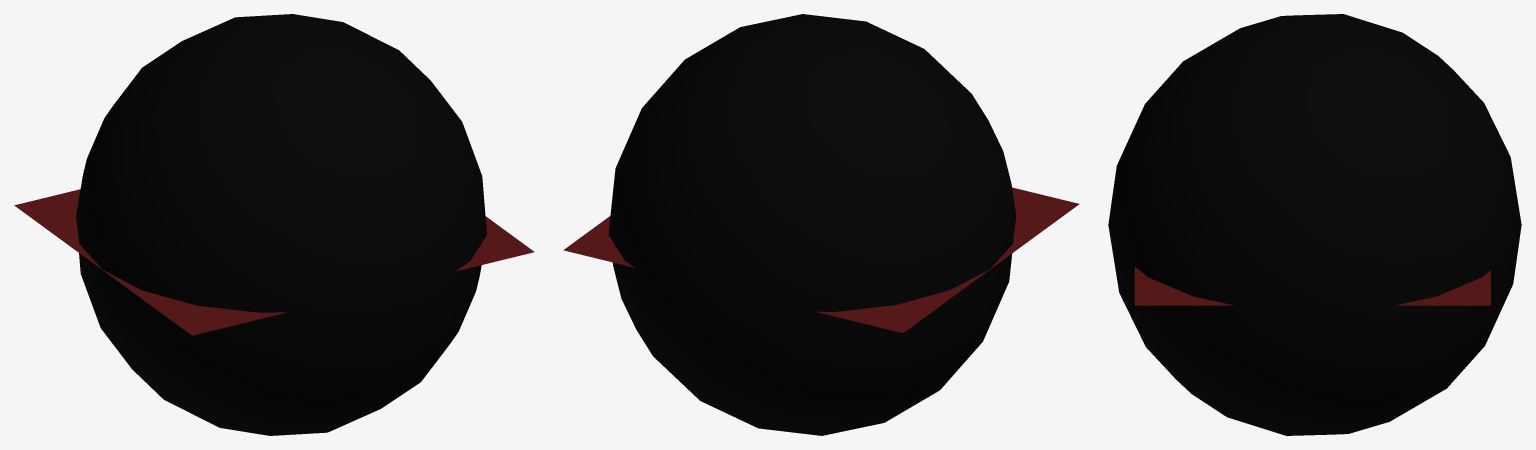
Rendered from Rosary-2.obj.
3 renders of one model, left to right at view 1: azimuth 30°, elevation 25°; view 2: azimuth 150°, elevation 25°; view 3: azimuth 270°, elevation 25°, orthographic.
Visible parts, largest first — view 1: obj3, obj2; view 2: obj3, obj2; view 3: obj3, obj2.
Part boxes in pixels (bbox=[...]): obj3: bbox=[76, 14, 486, 435]; obj2: bbox=[14, 189, 534, 335]; obj3: bbox=[608, 14, 1016, 435]; obj2: bbox=[563, 187, 1079, 332]; obj3: bbox=[1108, 14, 1521, 435]; obj2: bbox=[1134, 267, 1490, 305].
Size of the model in its own units: 1.2 by 1.24 by 1.19.
